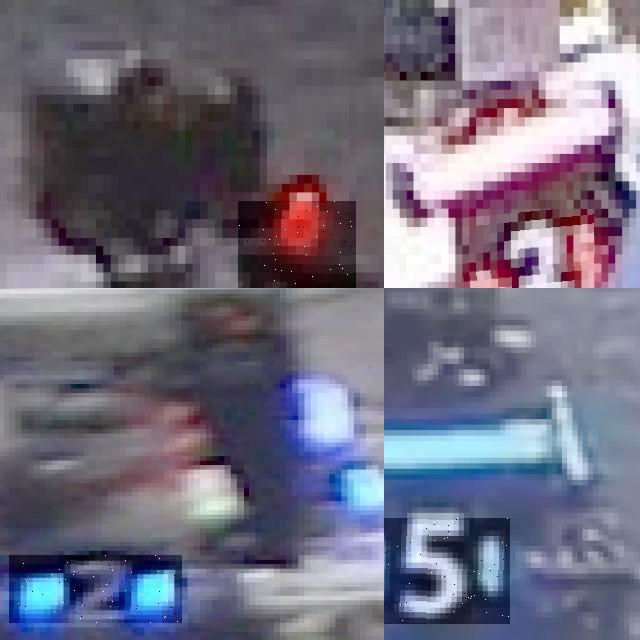B2: (9, 555, 182, 623)
B5: (384, 518, 510, 623)
R3: (462, 208, 594, 288)
R5: (237, 201, 356, 288)
